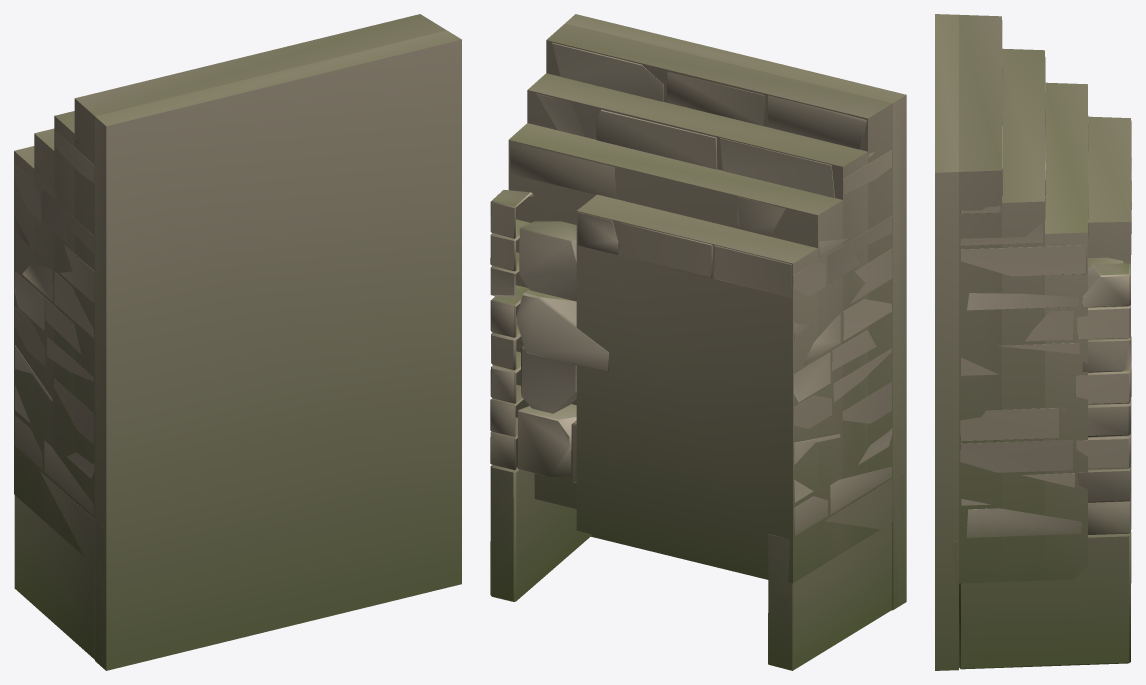
The model's file is arena_seats_broken_a.glb.
3 renders of one model, left to right at view 1: azimuth 30°, elevation 25°; view 2: azimuth 150°, elevation 25°; view 3: azimuth 270°, elevation 25°, orthographic. The views are drawn at different scales.
Visible parts, largest first — view 1: arena_seats_broken_a_far, arena_seats_broken_a; view 2: arena_seats_broken_a_far, arena_seats_broken_a; view 3: arena_seats_broken_a_far, arena_seats_broken_a.
Boxes of the visible parts, x1,y1,x2,y2 form: arena_seats_broken_a_far: (14, 14, 461, 670); arena_seats_broken_a: (14, 130, 104, 662); arena_seats_broken_a_far: (508, 14, 906, 610); arena_seats_broken_a: (490, 42, 904, 670); arena_seats_broken_a_far: (935, 14, 1130, 670); arena_seats_broken_a: (951, 20, 1131, 669).
Size of the model in its own units: 15.72 by 23.01 by 8.24.
